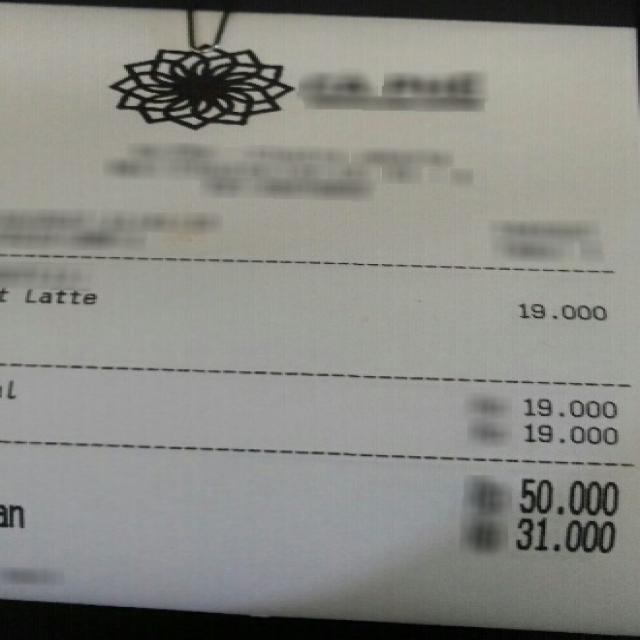text: (514, 515, 617, 553), (518, 477, 615, 513), (520, 421, 615, 442), (520, 397, 615, 416), (518, 301, 601, 318), (21, 285, 99, 302), (0, 496, 35, 530)
